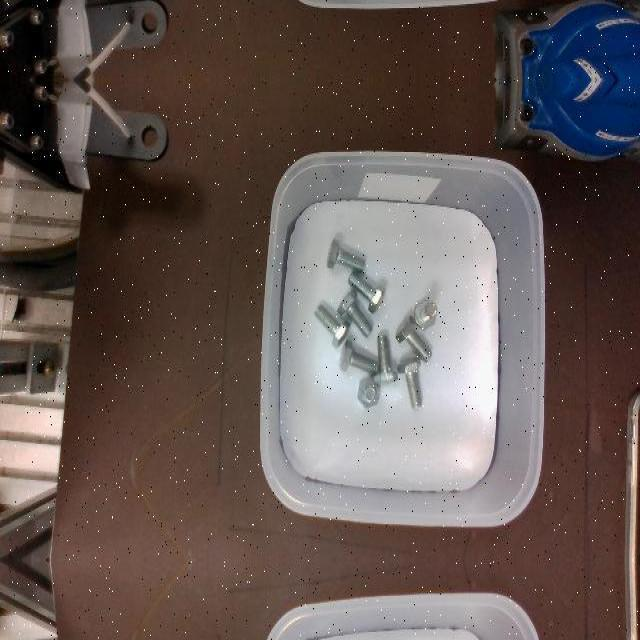screw: (336, 287, 372, 337), (395, 315, 432, 361), (314, 303, 351, 349), (347, 271, 385, 313), (339, 339, 378, 373), (397, 357, 422, 409), (326, 237, 364, 271), (373, 335, 397, 385), (414, 299, 437, 329), (357, 377, 380, 407)
